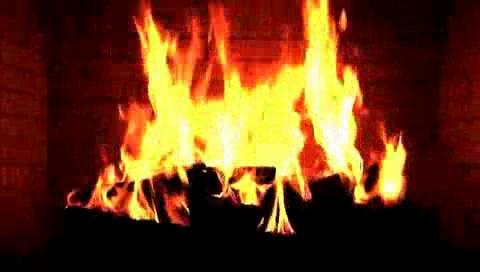fire: (102, 18, 405, 244)
